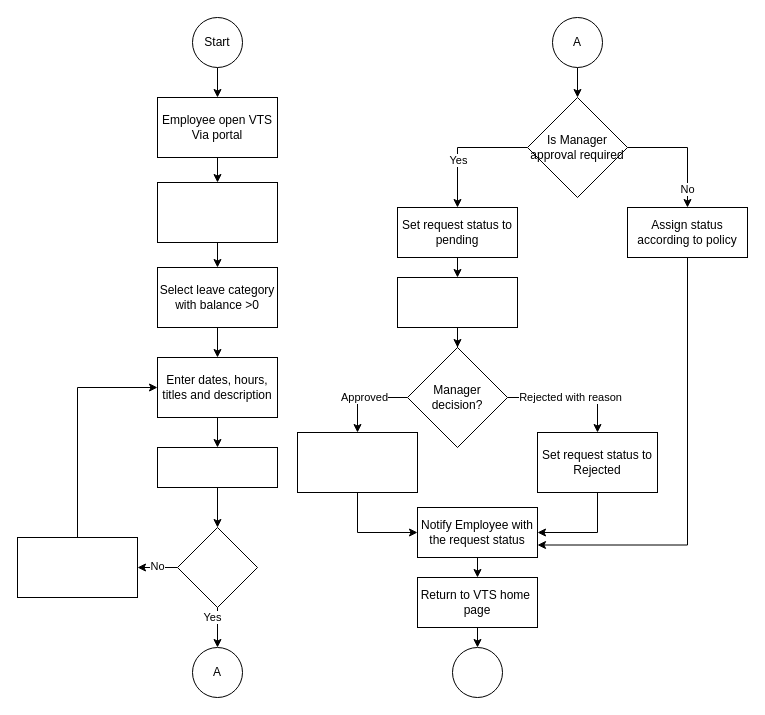
The diagram is 765 pixels wide and 715 high, and some of its shapes have lost their labels. The shapes that lost their labels are listed below. From the top down, each one's centre as x and y in pixels, then its label:
(x=217, y=212): Display Balance summary
(x=457, y=302): Notify the manager via email
(x=217, y=467): Submit
(x=357, y=462): Set request status to Approved
(x=77, y=567): Display validation errors
(x=217, y=567): Is request valid?
(x=477, y=672): End
